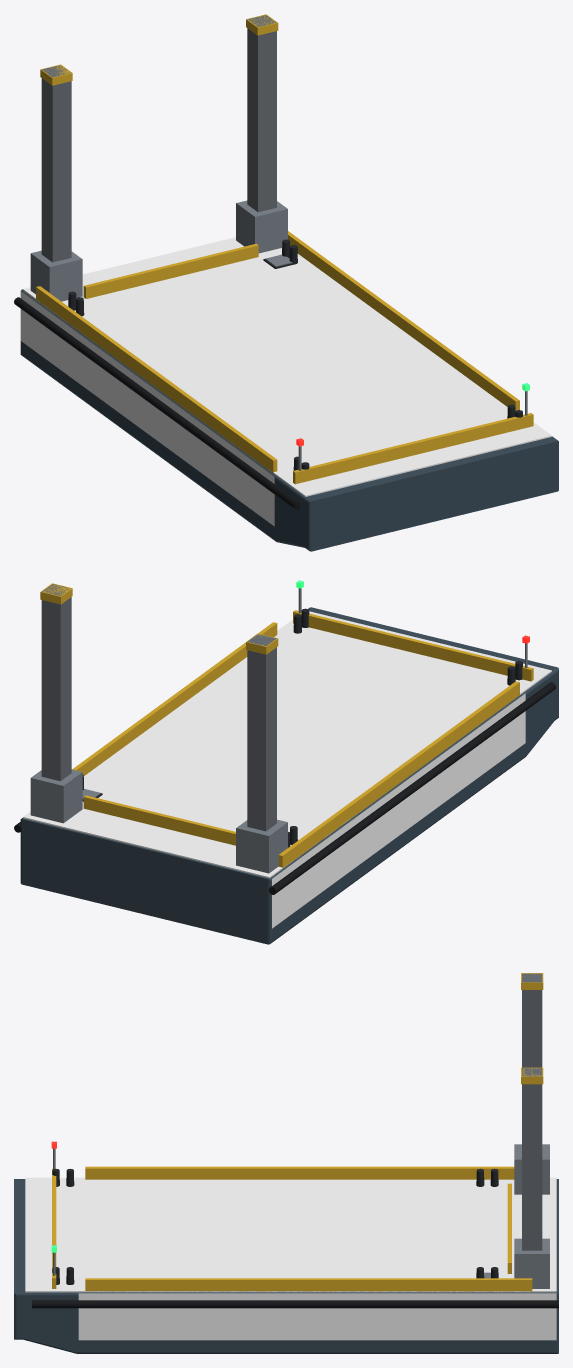
Rendered from fleet--spudBarge.glb.
The picture shows the model from 3 angles, top to bottom: view 1: azimuth 30°, elevation 25°; view 2: azimuth 150°, elevation 25°; view 3: azimuth 270°, elevation 25°; orthographic projection. The views are drawn at different scales.
Parts seen in each view (by area): view 1: spudBarge:shell, coaming, spudP, spudS; view 2: spudBarge:shell, coaming, spudS, spudP; view 3: spudBarge:shell, coaming, spudS, spudP.
Part boxes in pixels (x1=…): spudBarge:shell: x1=14, y1=200, x2=558, y2=551; coaming: x1=36, y1=231, x2=533, y2=484; spudP: x1=40, y1=64, x2=72, y2=262; spudS: x1=246, y1=14, x2=278, y2=212; spudBarge:shell: x1=14, y1=607, x2=558, y2=944; coaming: x1=72, y1=610, x2=533, y2=868; spudS: x1=40, y1=583, x2=72, y2=781; spudP: x1=246, y1=633, x2=278, y2=831; spudBarge:shell: x1=14, y1=1144, x2=558, y2=1353; coaming: x1=52, y1=1166, x2=532, y2=1291; spudS: x1=521, y1=1067, x2=543, y2=1250; spudP: x1=521, y1=973, x2=543, y2=1067.
Size of the model in its own units: 6.38 by 6.72 by 12.2.
